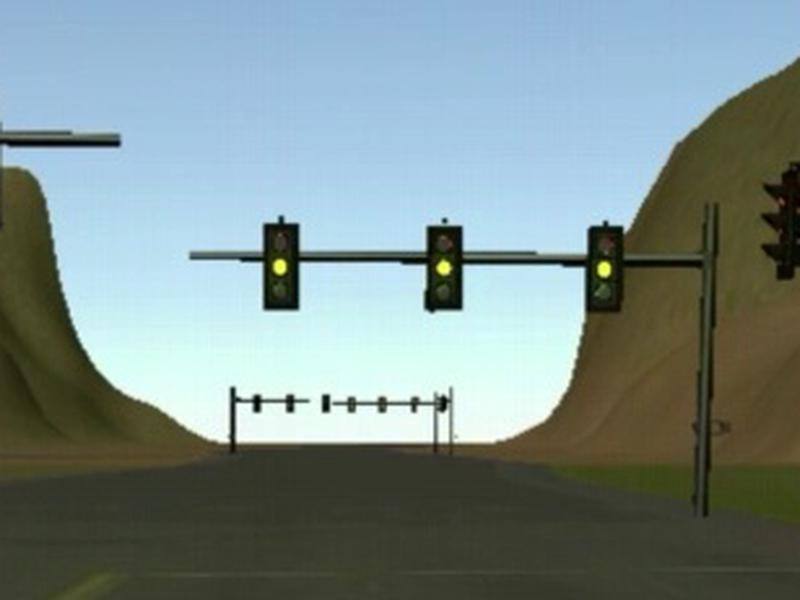Yellow: (423, 224, 463, 311), (262, 222, 299, 312), (585, 225, 623, 312)
